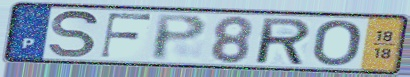8: (209, 14, 256, 65)
F: (98, 12, 155, 60)
O: (311, 18, 364, 68)
P: (150, 13, 210, 63)
R: (256, 16, 313, 67)
S: (47, 9, 101, 60)
